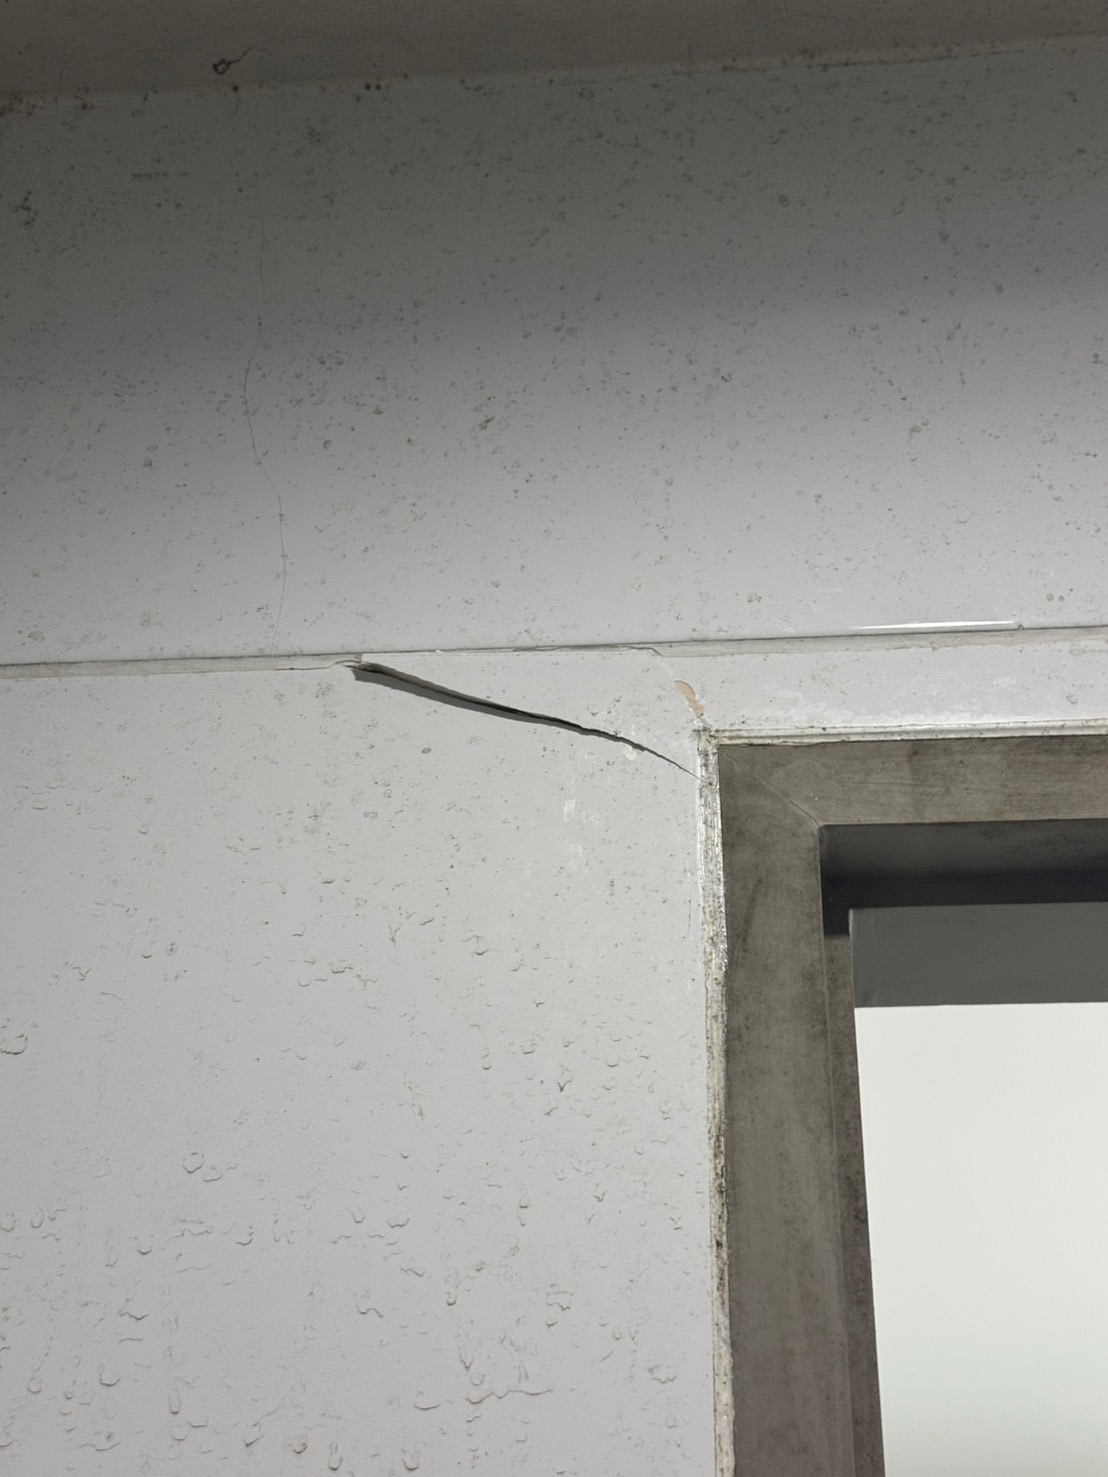Low: (1, 57, 732, 835)
